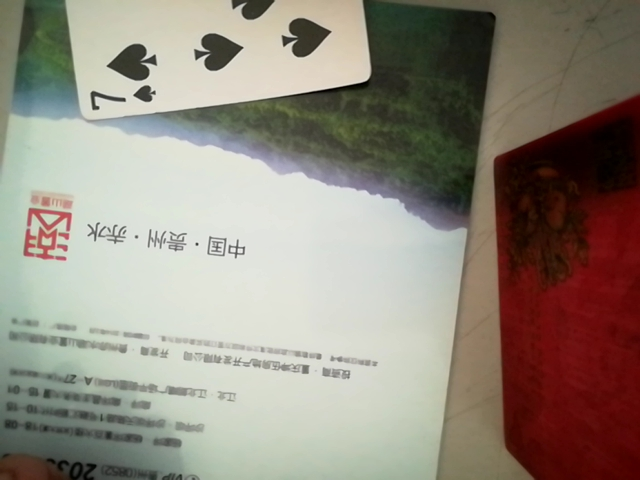ht 7: (53, 6, 372, 128)
